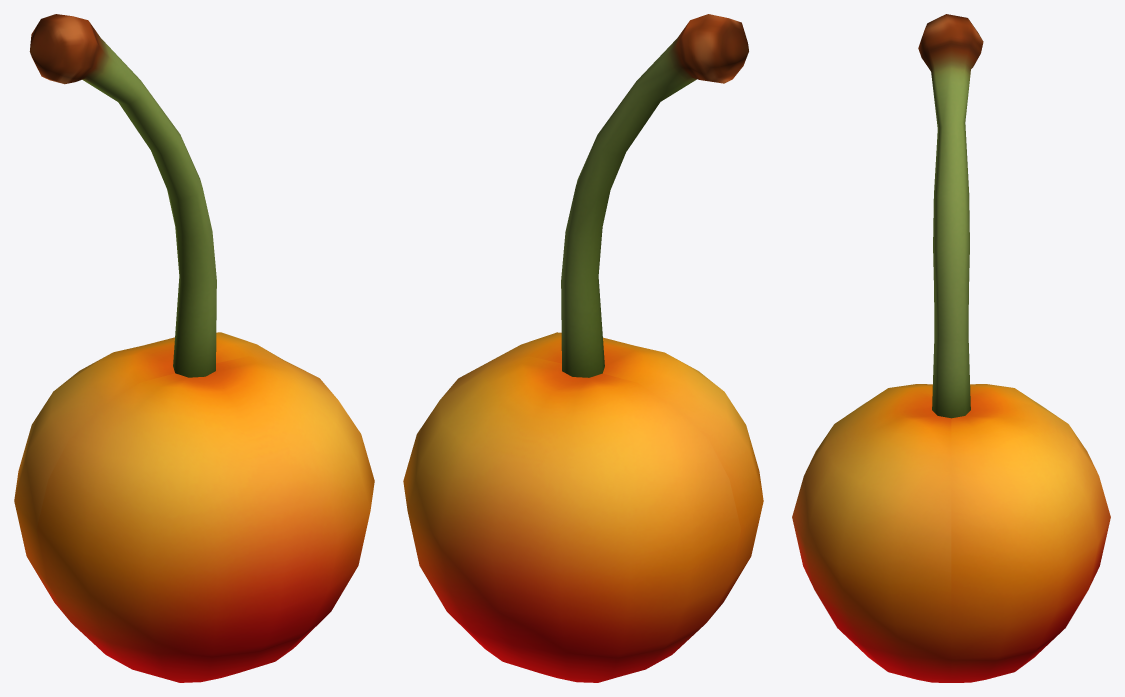
The model's file is Cherry_Rainier.fbx.
3 renders of one model, left to right at view 1: azimuth 30°, elevation 25°; view 2: azimuth 150°, elevation 25°; view 3: azimuth 270°, elevation 25°, orthographic. The views are drawn at different scales.
Visible parts, largest first — view 1: Cherry_Rainier; view 2: Cherry_Rainier; view 3: Cherry_Rainier.
Boxes of the visible parts, x1,y1,x2,y2 form: Cherry_Rainier: [14, 14, 374, 682]; Cherry_Rainier: [403, 14, 763, 682]; Cherry_Rainier: [792, 14, 1110, 682].
Bounding box in the file's own units: 14.95 × 30.2 × 14.61.
